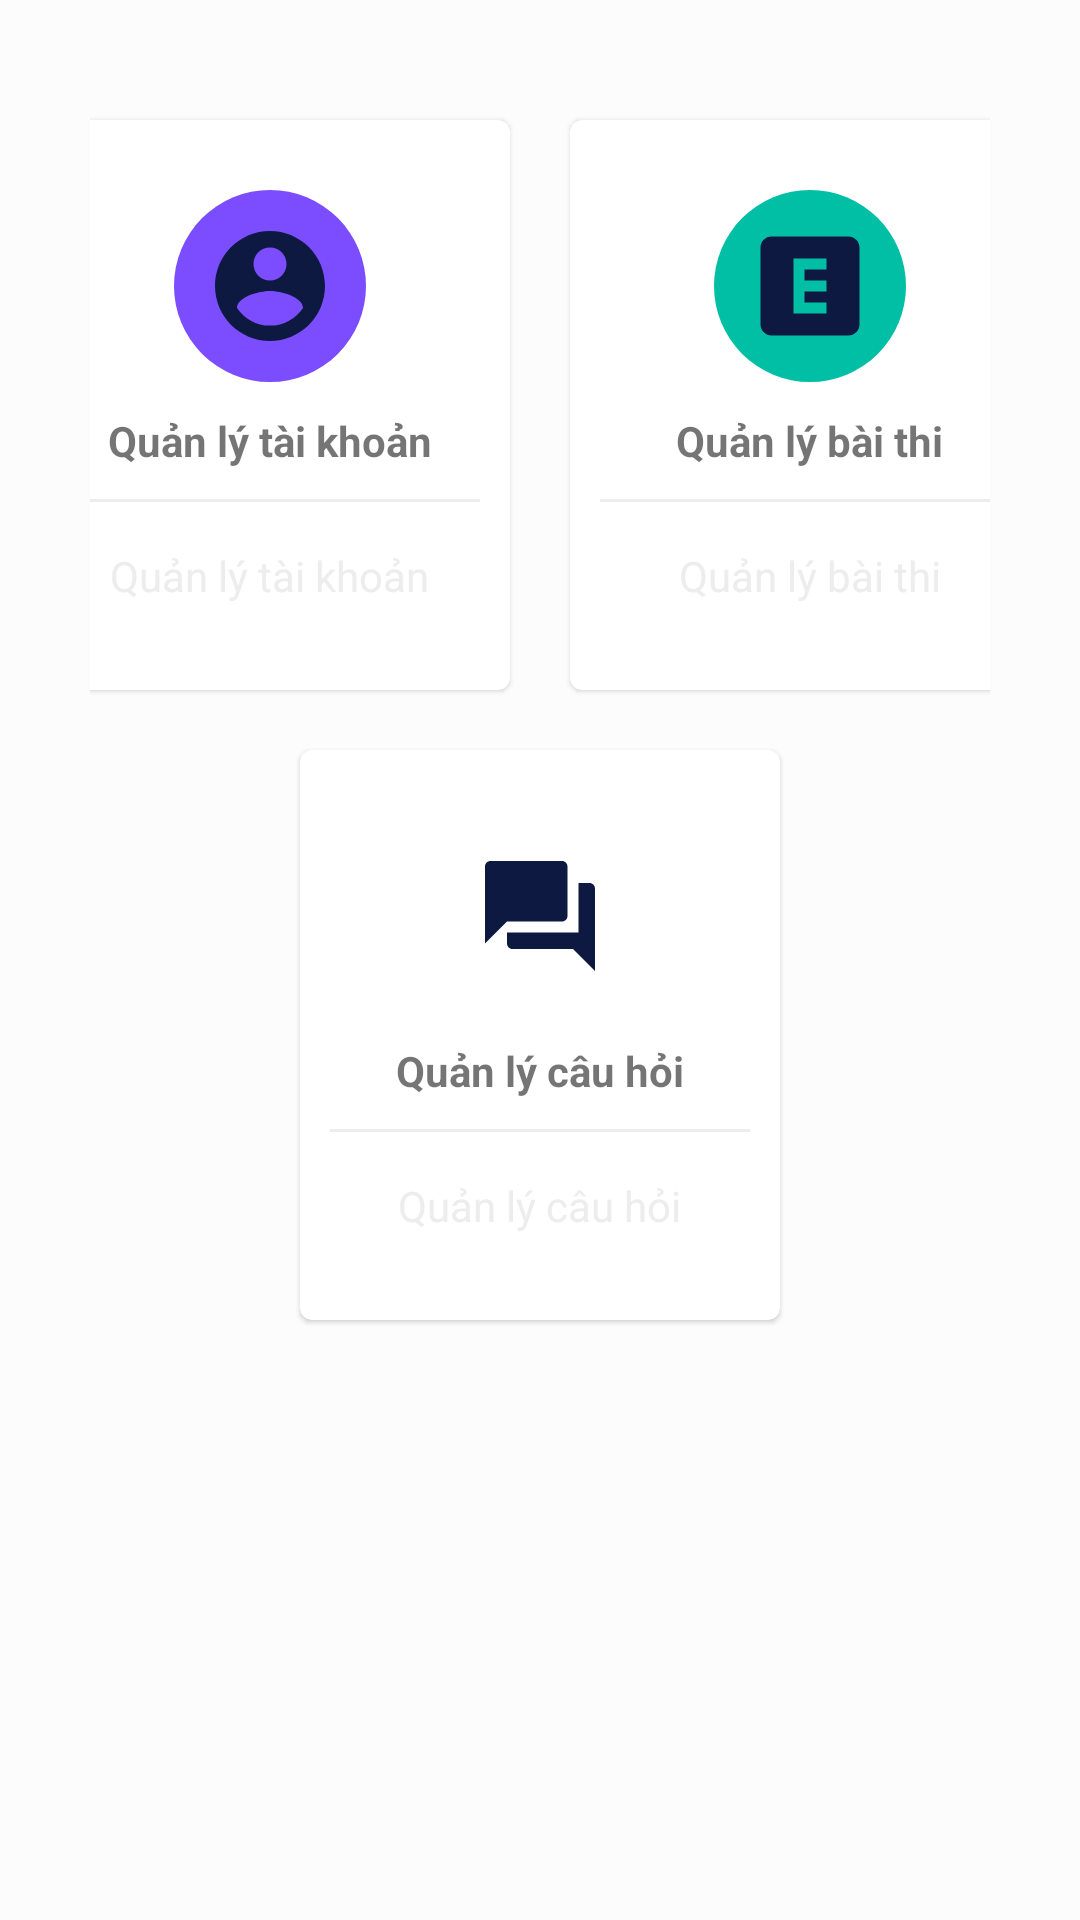

Where to tap for icons on this 1080 x 1920 app screen, as (x=x, y=y):
account circle: (x=270, y=286)
explicit: (x=810, y=286)
question answer: (x=540, y=916)
